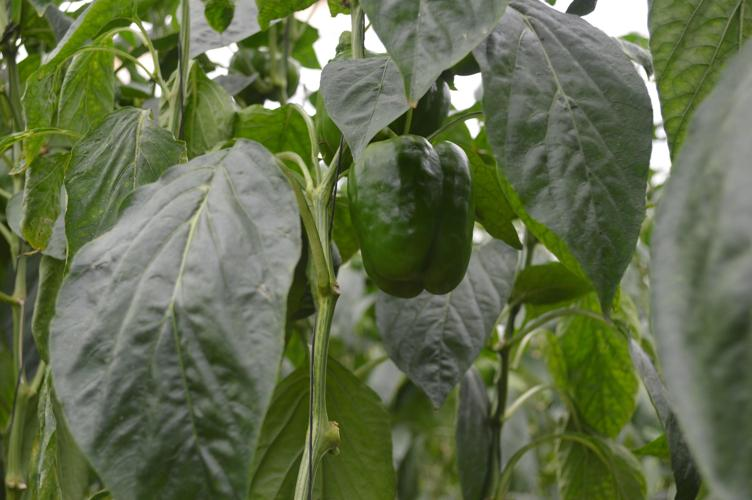BellPepper: (342, 136, 480, 296)
